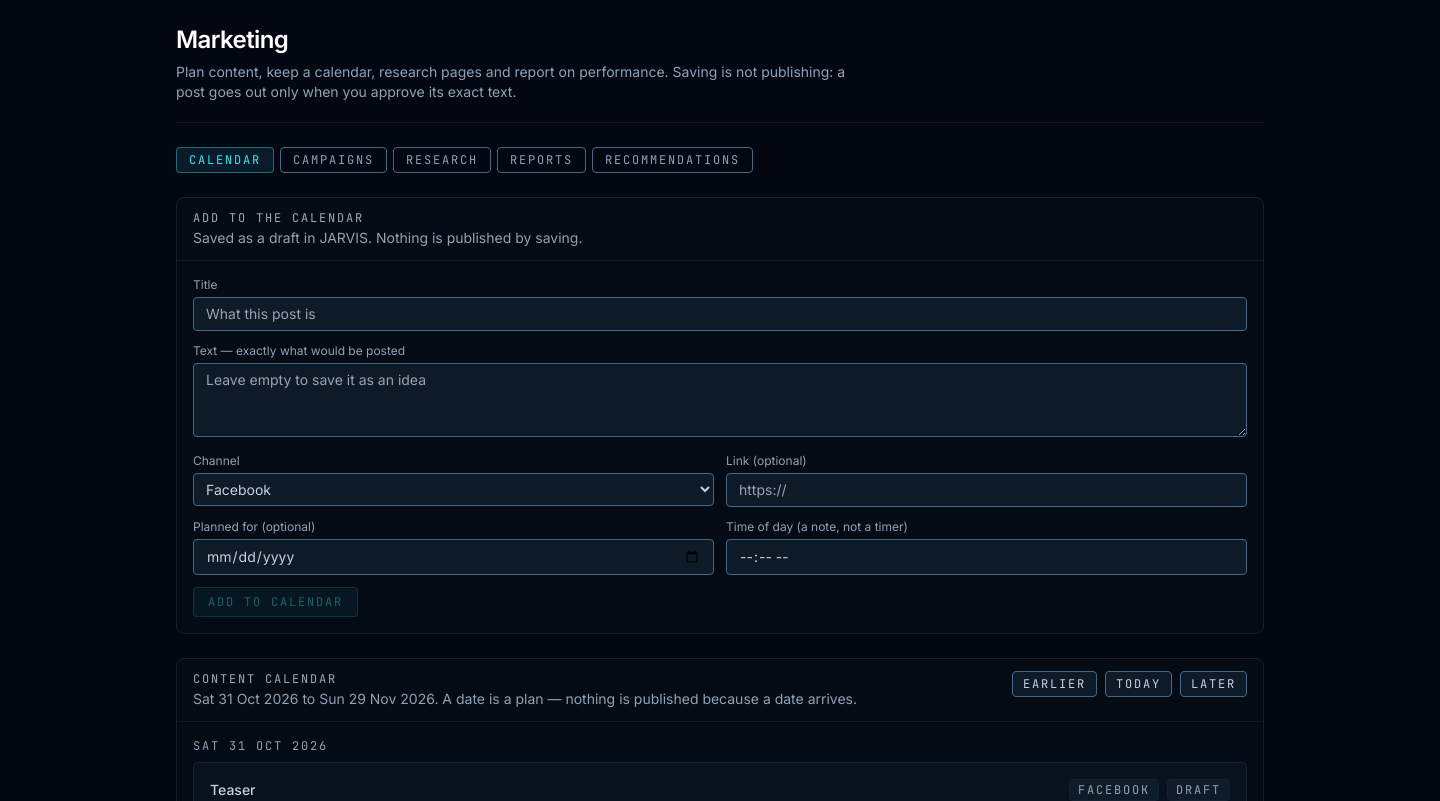
Test: Marketing screen — the calendar › adds an item as a draft, and says nothing was published
In the field labelled "Title": (720,314) [193,297,1247,331], type "  Offer  "
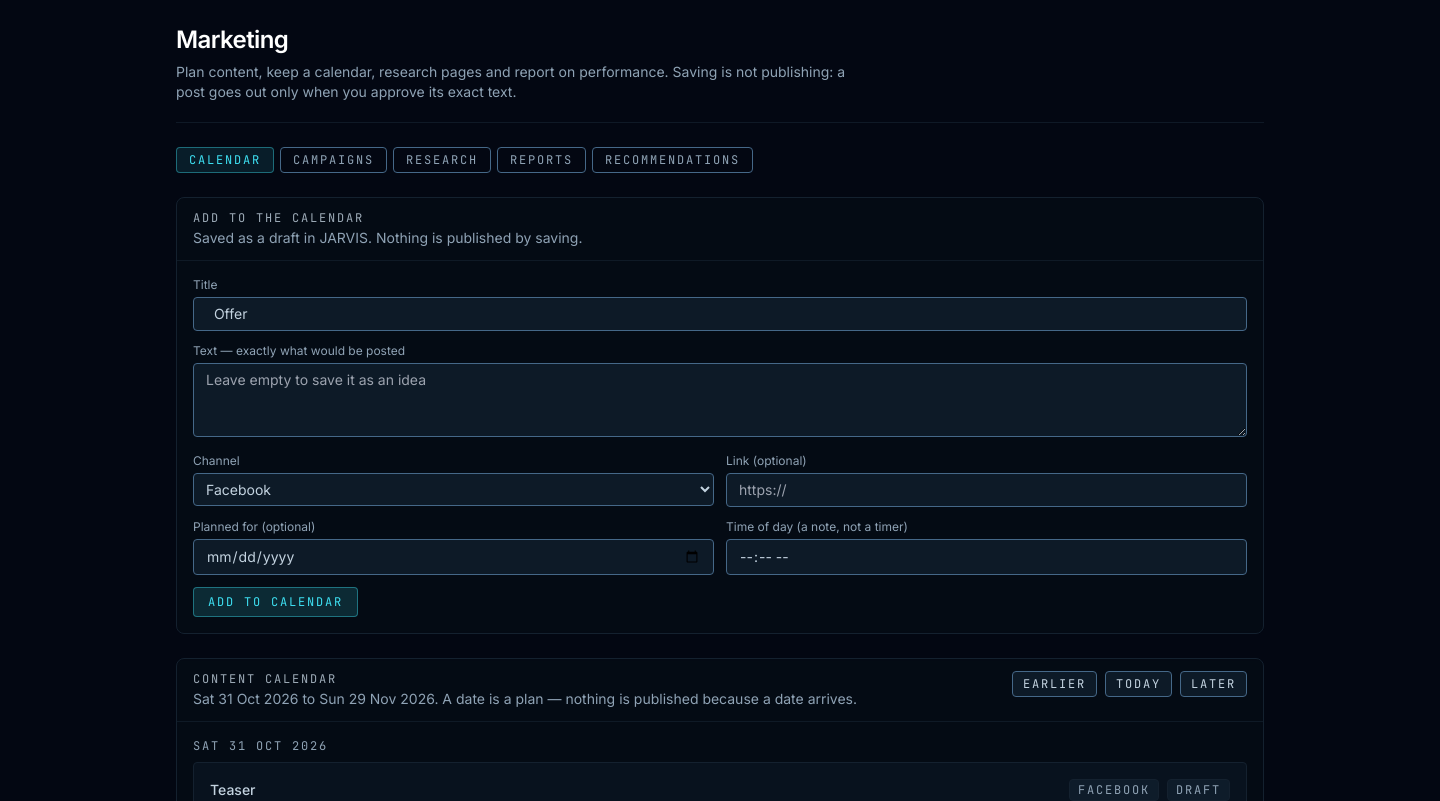
In the text box labelled "Text — exactly what would be posted": (720,400) [193,363,1247,437], type "Gift sets are live."
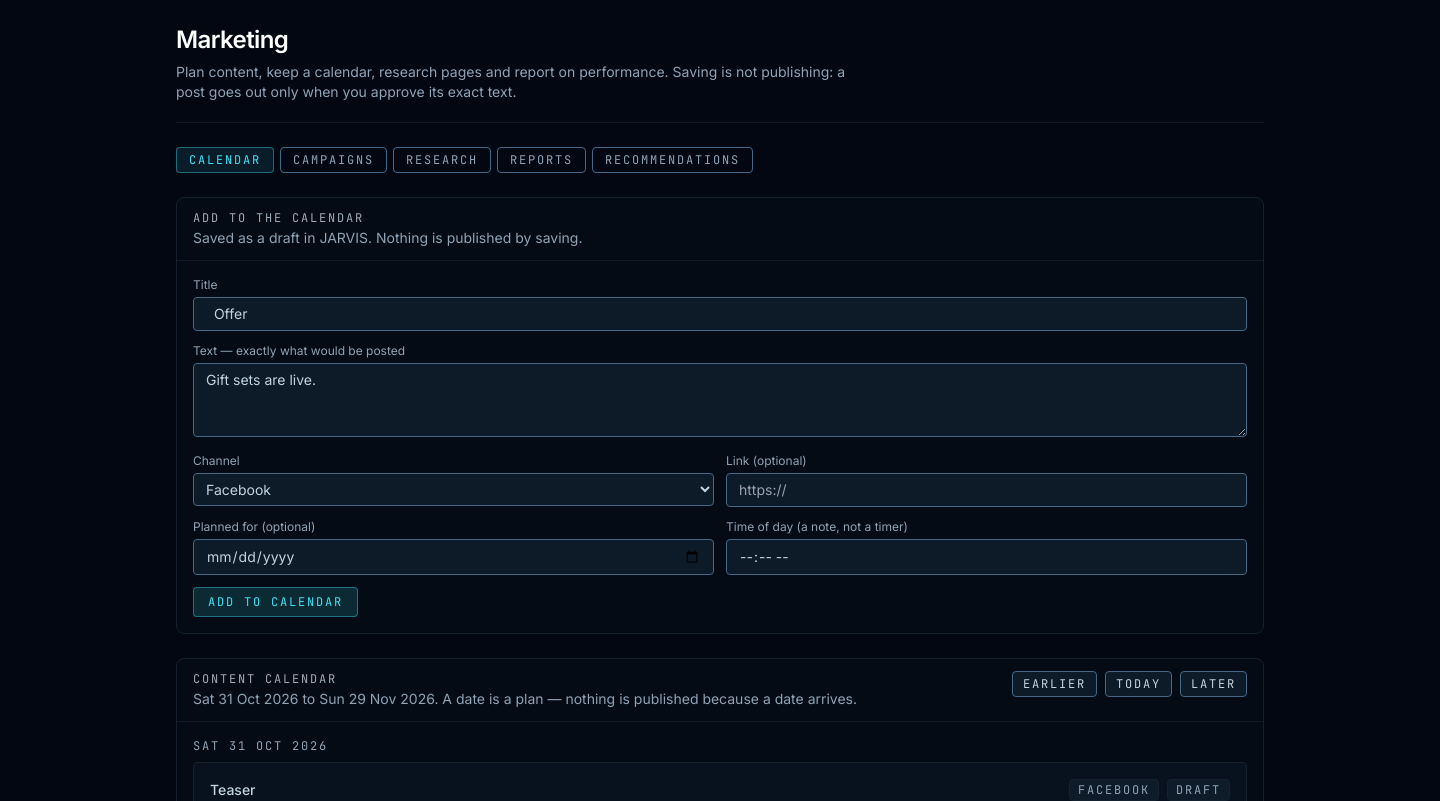
In the date field labelled "Planned for (optional)": (454,557) [193,539,714,575], type "2026-11-05"
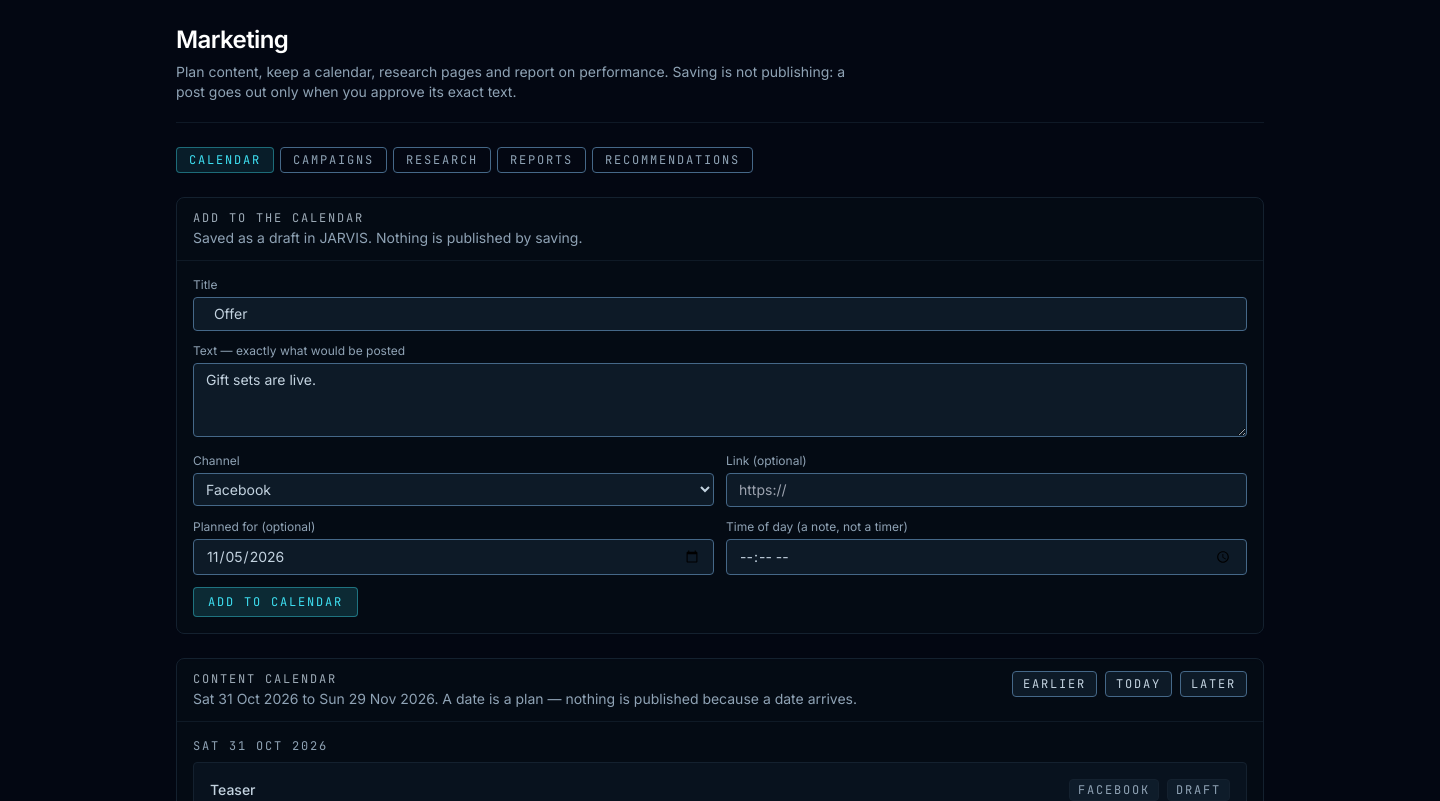
Click the button "Add to calendar": (276,602) [193,587,358,617]
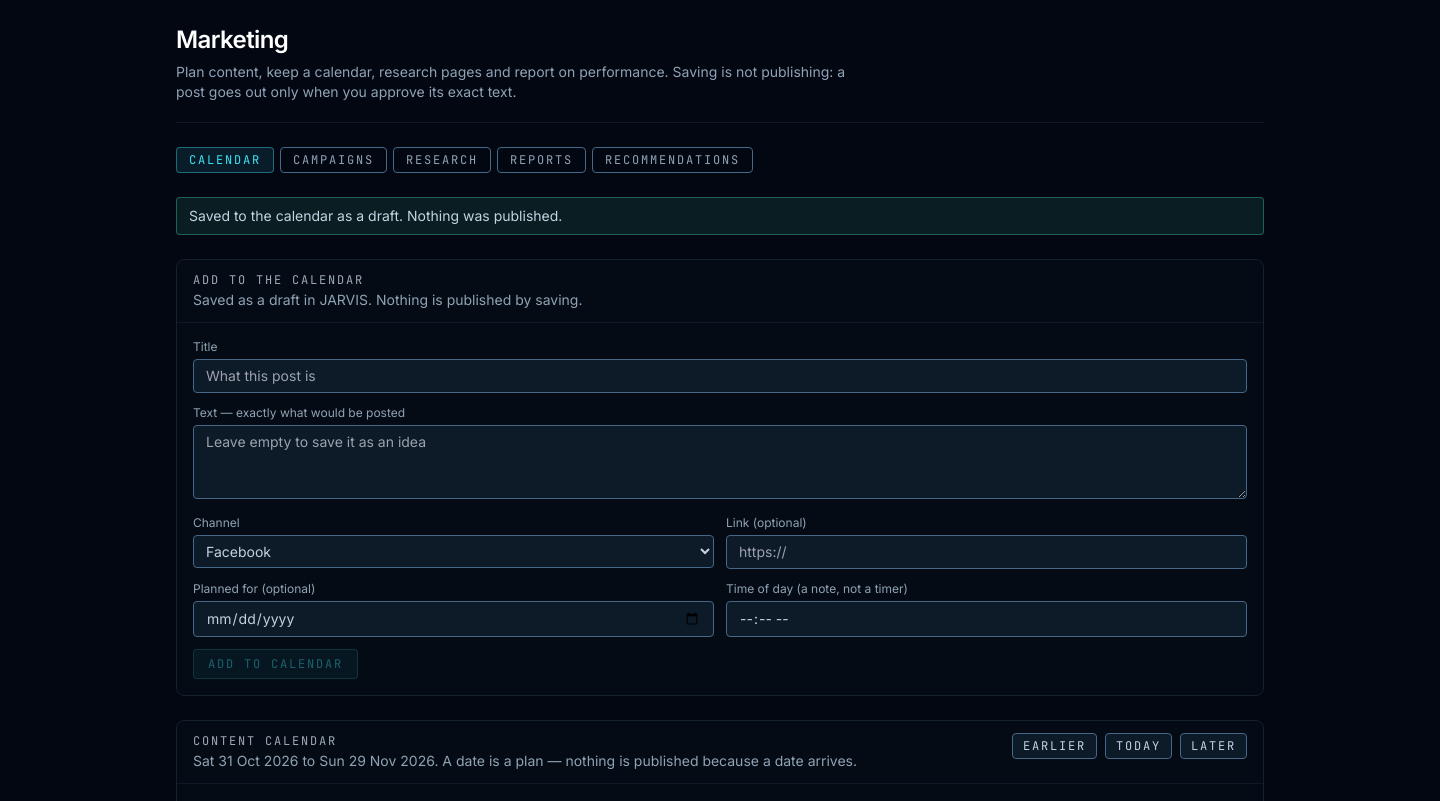
Expected: the text "Saved to the calendar as a draft. Nothing was published." is shown, [176,197,1264,235]
